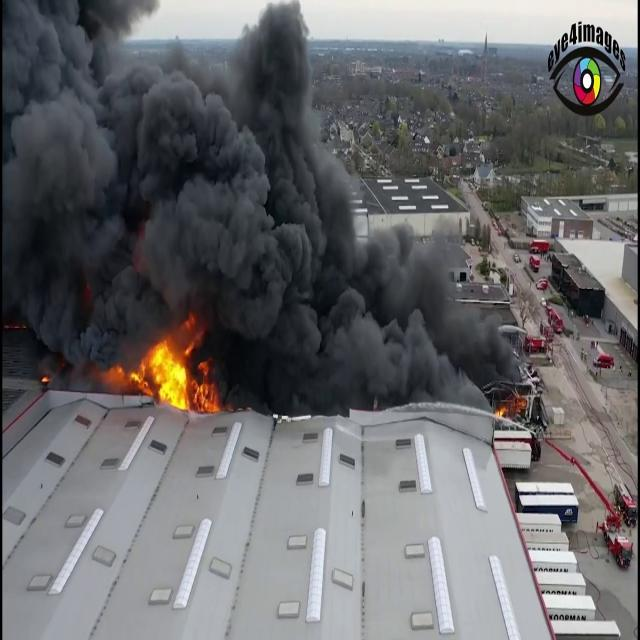Fire: (98, 332, 218, 402), (124, 332, 216, 412)
Smoke: (1, 7, 524, 413)
